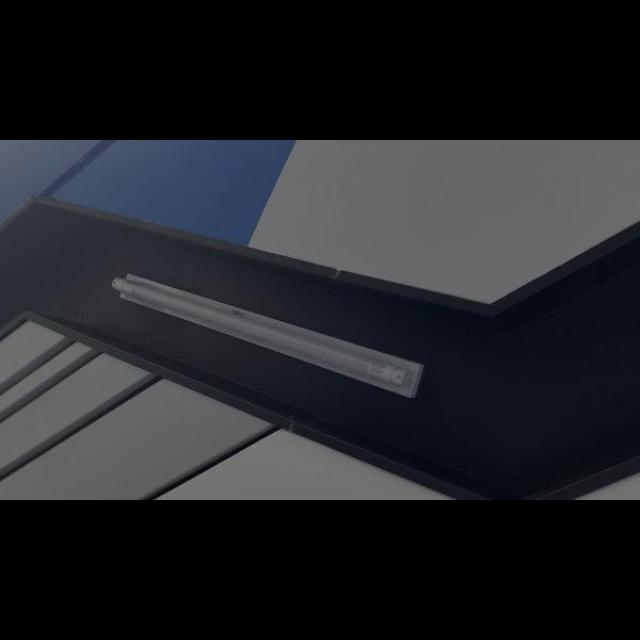Straight-Tube-Fluorescent-Lamp: (100, 257, 436, 409)
